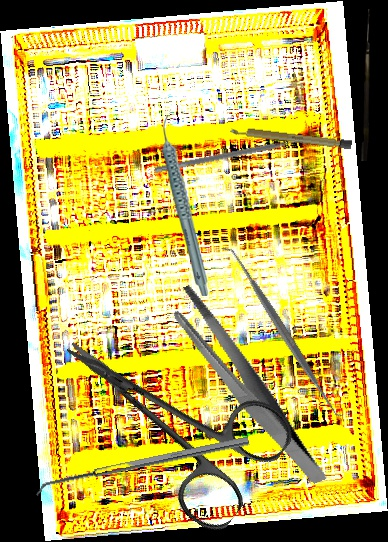Dressing Forceps: (164, 263, 329, 510)
Handpiece: (161, 115, 210, 296)
Hook Surgical: (361, 9, 370, 161)
Iris Scissors: (31, 287, 301, 539)
Scalpel Handle: (229, 125, 353, 150)
Spatula Surgical: (218, 238, 348, 425), (33, 436, 252, 499), (154, 135, 307, 180)
